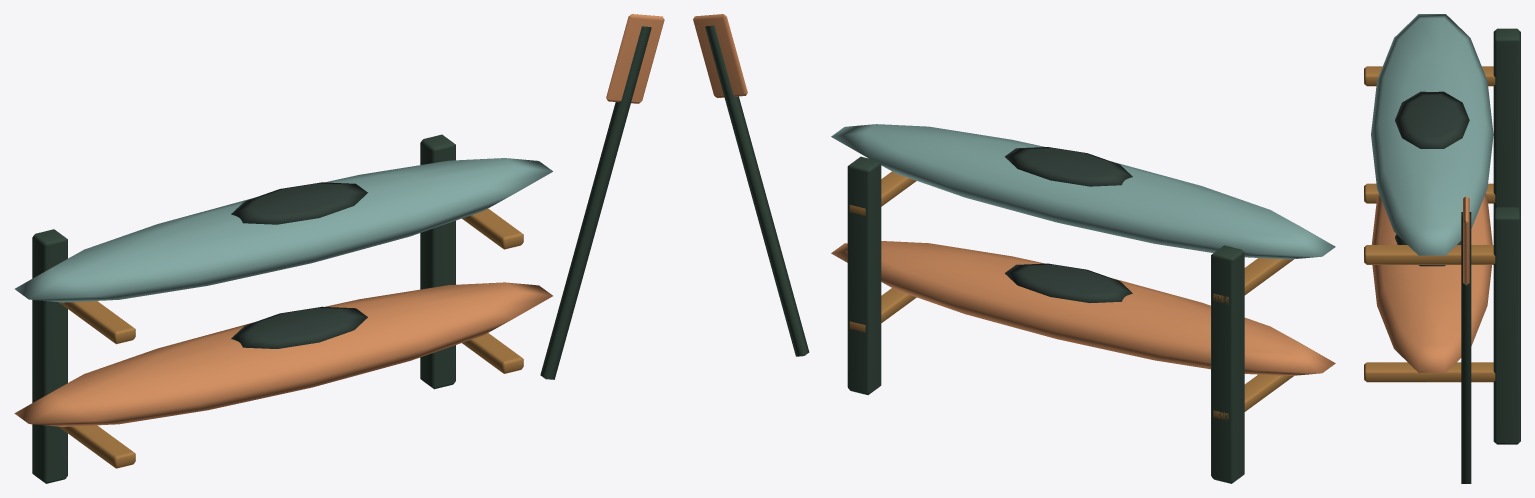
Rendered from kayak_rack.glb.
3 renders of one model, left to right at view 1: azimuth 30°, elevation 25°; view 2: azimuth 150°, elevation 25°; view 3: azimuth 270°, elevation 25°, orthographic. The views are drawn at different scales.
Parts seen in each view (by area): view 1: Kayak0.63, Kayak0.25, Post-0.62, PaddleShaft, Post0.62, Cockpit0.63, Cockpit0.25, PaddleBlade, Arm-0.62_0.2, Arm-0.62_0.58, Arm0.62_0.58, Arm0.62_0.2; view 2: Kayak0.63, Kayak0.25, Post0.62, Post-0.62, PaddleShaft, Cockpit0.63, Cockpit0.25, PaddleBlade, Arm-0.62_0.2, Arm-0.62_0.58, Arm0.62_0.2, Arm0.62_0.58; view 3: Kayak0.63, Kayak0.25, Post0.62, Post-0.62, Cockpit0.63, PaddleShaft, Arm0.62_0.2, Arm0.62_0.58, PaddleBlade, Arm-0.62_0.58, Arm-0.62_0.2.
Part boxes in pixels (left/top/right/bottom): Kayak0.63: left=15, top=158, right=552, bottom=302; Kayak0.25: left=14, top=282, right=552, bottom=426; Post-0.62: left=32, top=229, right=67, bottom=483; PaddleShaft: left=540, top=26, right=651, bottom=379; Post0.62: left=420, top=134, right=455, bottom=389; Cockpit0.63: left=231, top=182, right=367, bottom=224; Cockpit0.25: left=231, top=306, right=367, bottom=348; PaddleBlade: left=606, top=14, right=664, bottom=103; Arm-0.62_0.2: left=59, top=425, right=135, bottom=468; Arm-0.62_0.58: left=59, top=301, right=135, bottom=344; Arm0.62_0.58: left=462, top=208, right=523, bottom=249; Arm0.62_0.2: left=462, top=333, right=523, bottom=373; Kayak0.63: left=831, top=124, right=1335, bottom=259; Kayak0.25: left=831, top=241, right=1335, bottom=375; Post0.62: left=847, top=156, right=881, bottom=394; Post-0.62: left=1211, top=245, right=1244, bottom=483; PaddleShaft: left=705, top=25, right=809, bottom=356; Cockpit0.63: left=1004, top=147, right=1132, bottom=186; Cockpit0.25: left=1004, top=263, right=1132, bottom=302; PaddleBlade: left=693, top=14, right=747, bottom=97; Arm-0.62_0.2: left=1213, top=374, right=1293, bottom=420; Arm-0.62_0.58: left=1213, top=258, right=1293, bottom=304; Arm0.62_0.2: left=849, top=288, right=916, bottom=332; Arm0.62_0.58: left=849, top=171, right=916, bottom=215; Kayak0.63: left=1371, top=14, right=1493, bottom=255; Kayak0.25: left=1371, top=194, right=1492, bottom=372; Post0.62: left=1493, top=207, right=1520, bottom=444; Post-0.62: left=1493, top=28, right=1520, bottom=209; Cockpit0.63: left=1395, top=91, right=1469, bottom=148; PaddleShaft: left=1461, top=212, right=1471, bottom=483; Arm0.62_0.2: left=1364, top=362, right=1495, bottom=382; Arm0.62_0.58: left=1364, top=245, right=1495, bottom=264; PaddleBlade: left=1463, top=196, right=1469, bottom=285; Arm-0.62_0.58: left=1364, top=66, right=1495, bottom=86; Arm-0.62_0.2: left=1364, top=183, right=1495, bottom=203.
Size of the model in its own units: 2.11 by 1.05 by 0.46.
